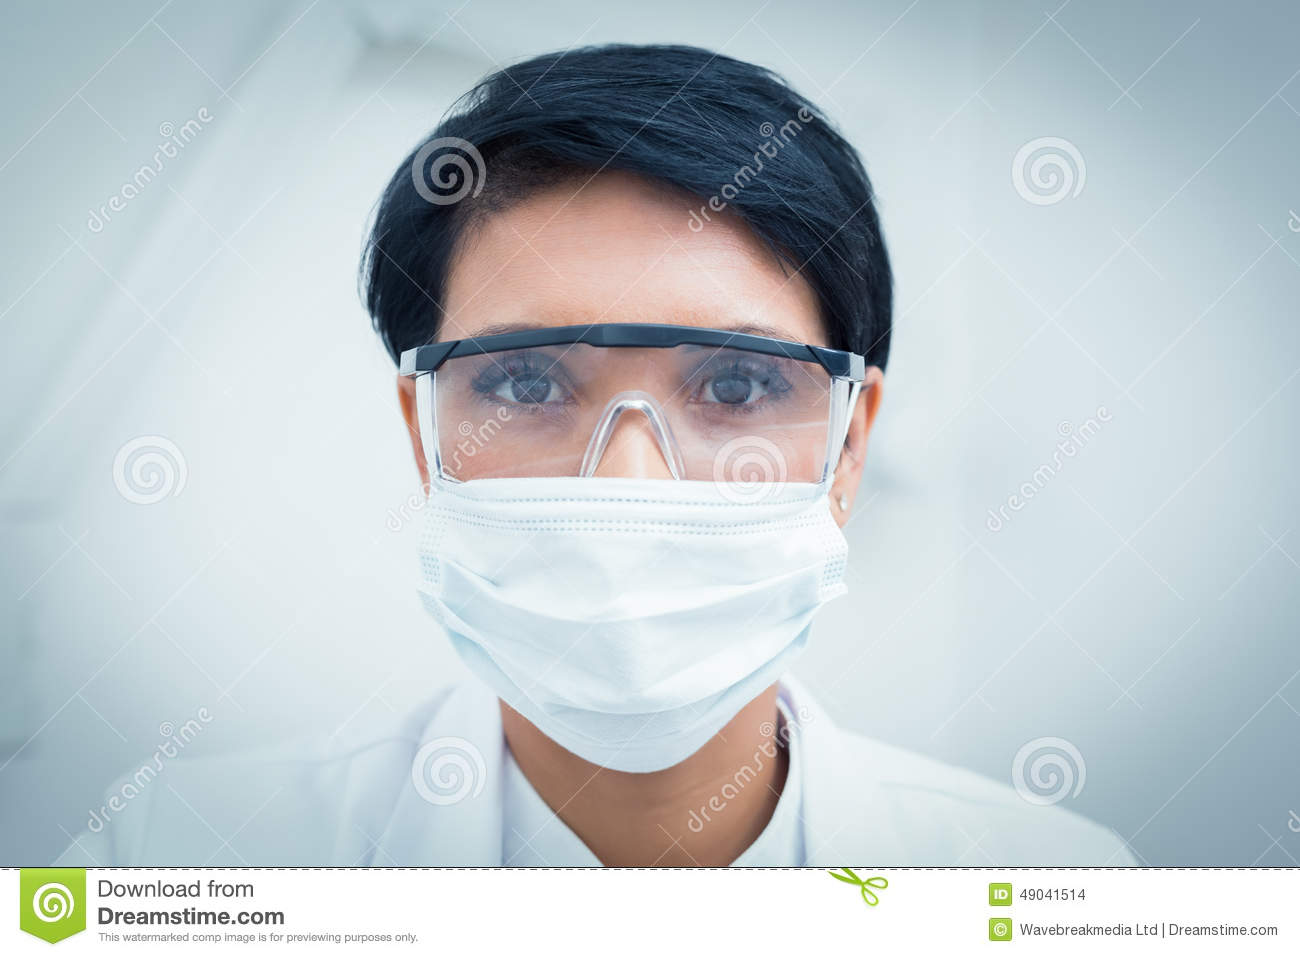mask: (404, 467, 829, 769)
